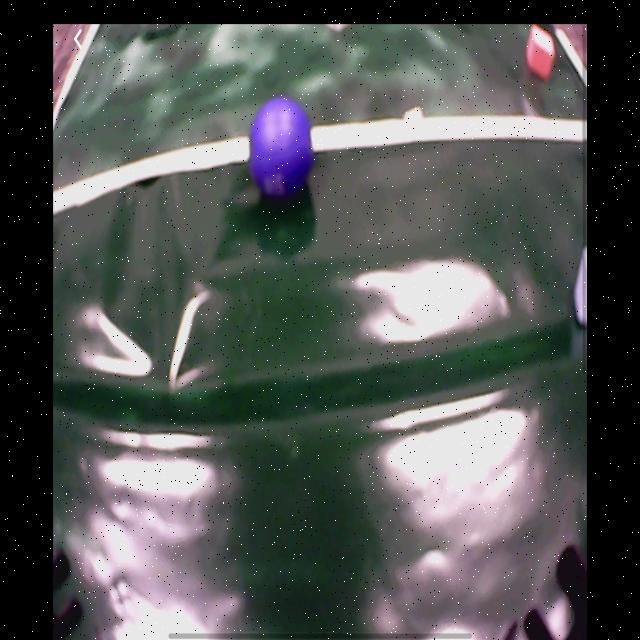ball: (252, 98, 313, 200)
